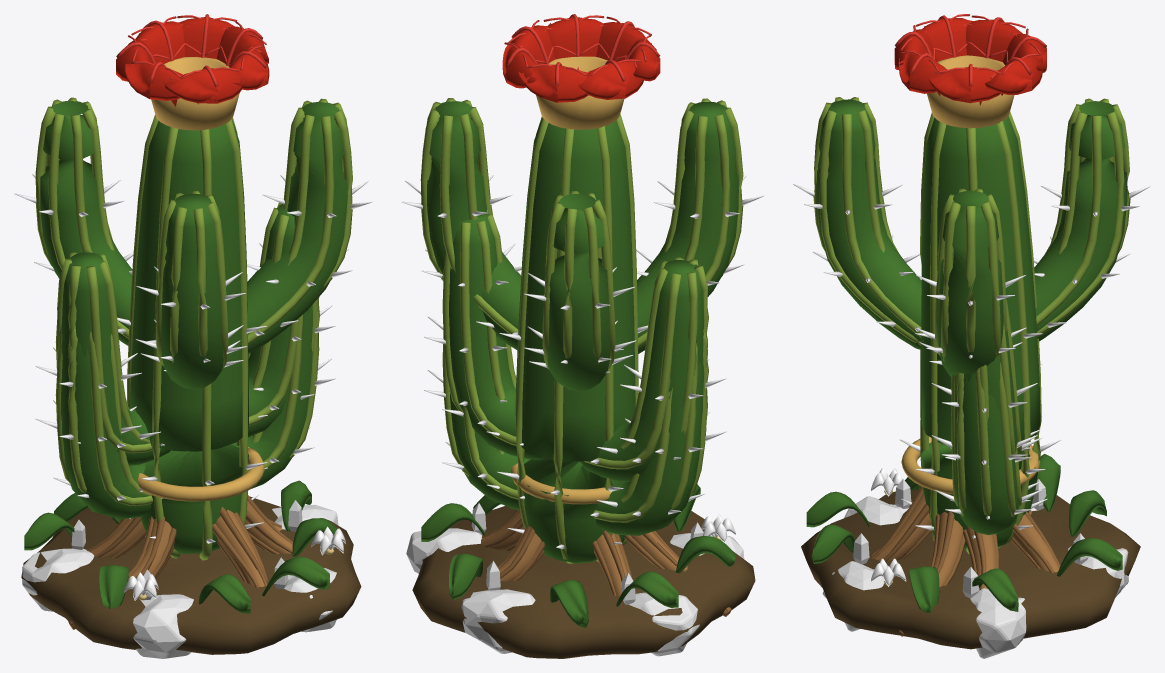
The model's file is cactus-5.fbx.
The picture shows the model from 3 angles, left to right: view 1: azimuth 30°, elevation 25°; view 2: azimuth 150°, elevation 25°; view 3: azimuth 270°, elevation 25°; orthographic projection.
Parts seen in each view (by area): view 1: Petals_PortalBamboo, Turret_PortalBamboo, cactus-5_Organic, Spines_Petal, cactus-5_Bark, cactus-5_PortalBamboo, cactus-5_Stone, Petals_Organic, CactusMuzzle, Turret_Metal, cactus-5_Petal, cactus-5_SuperGlow; view 2: Petals_PortalBamboo, Turret_PortalBamboo, cactus-5_Organic, Spines_Petal, cactus-5_PortalBamboo, cactus-5_Stone, cactus-5_Bark, Petals_Organic, CactusMuzzle, Turret_Metal, cactus-5_SuperGlow, cactus-5_Petal; view 3: Petals_PortalBamboo, Turret_PortalBamboo, cactus-5_Organic, Spines_Petal, cactus-5_PortalBamboo, cactus-5_Bark, cactus-5_Stone, Petals_Organic, CactusMuzzle, cactus-5_SuperGlow, Turret_Metal, cactus-5_Petal (+1 smaller).
Boxes of the visible parts, left/top/right/bottom form: Petals_PortalBamboo: left=35, top=97, right=352, bottom=519; Turret_PortalBamboo: left=127, top=115, right=248, bottom=560; cactus-5_Organic: left=21, top=496, right=361, bottom=654; Spines_Petal: left=116, top=14, right=269, bottom=106; cactus-5_Bark: left=68, top=495, right=293, bottom=629; cactus-5_PortalBamboo: left=24, top=480, right=336, bottom=613; cactus-5_Stone: left=22, top=504, right=338, bottom=658; Petals_Organic: left=14, top=174, right=372, bottom=500; CactusMuzzle: left=151, top=57, right=239, bottom=130; Turret_Metal: left=138, top=447, right=264, bottom=501; cactus-5_Petal: left=124, top=526, right=345, bottom=600; cactus-5_SuperGlow: left=71, top=500, right=302, bottom=600; Petals_PortalBamboo: left=420, top=98, right=743, bottom=535; Turret_PortalBamboo: left=515, top=114, right=638, bottom=563; cactus-5_Organic: left=412, top=506, right=755, bottom=658; Spines_Petal: left=502, top=14, right=660, bottom=102; cactus-5_PortalBamboo: left=421, top=484, right=735, bottom=627; cactus-5_Stone: left=406, top=528, right=744, bottom=656; cactus-5_Bark: left=481, top=510, right=731, bottom=616; Petals_Organic: left=401, top=175, right=764, bottom=516; CactusMuzzle: left=536, top=56, right=624, bottom=129; Turret_Metal: left=511, top=463, right=611, bottom=504; cactus-5_SuperGlow: left=471, top=503, right=703, bottom=604; cactus-5_Petal: left=701, top=514, right=735, bottom=542; Petals_PortalBamboo: left=813, top=97, right=1130, bottom=535; Turret_PortalBamboo: left=919, top=111, right=1041, bottom=554; cactus-5_Organic: left=801, top=489, right=1140, bottom=649; Spines_Petal: left=894, top=14, right=1046, bottom=105; cactus-5_PortalBamboo: left=806, top=454, right=1122, bottom=613; cactus-5_Bark: left=871, top=486, right=1060, bottom=636; cactus-5_Stone: left=822, top=496, right=1128, bottom=658; Petals_Organic: left=793, top=184, right=1150, bottom=519; CactusMuzzle: left=927, top=55, right=1014, bottom=128; cactus-5_SuperGlow: left=853, top=479, right=1088, bottom=598; Turret_Metal: left=901, top=436, right=1040, bottom=494; cactus-5_Petal: left=871, top=468, right=906, bottom=586.
Bounding box in the file's own units: 87.52 × 149 × 87.
